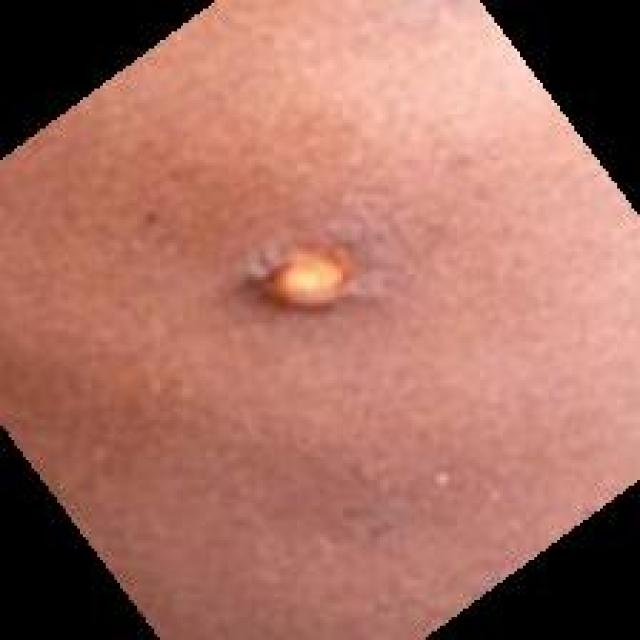monkeypox: (202, 150, 595, 548)
